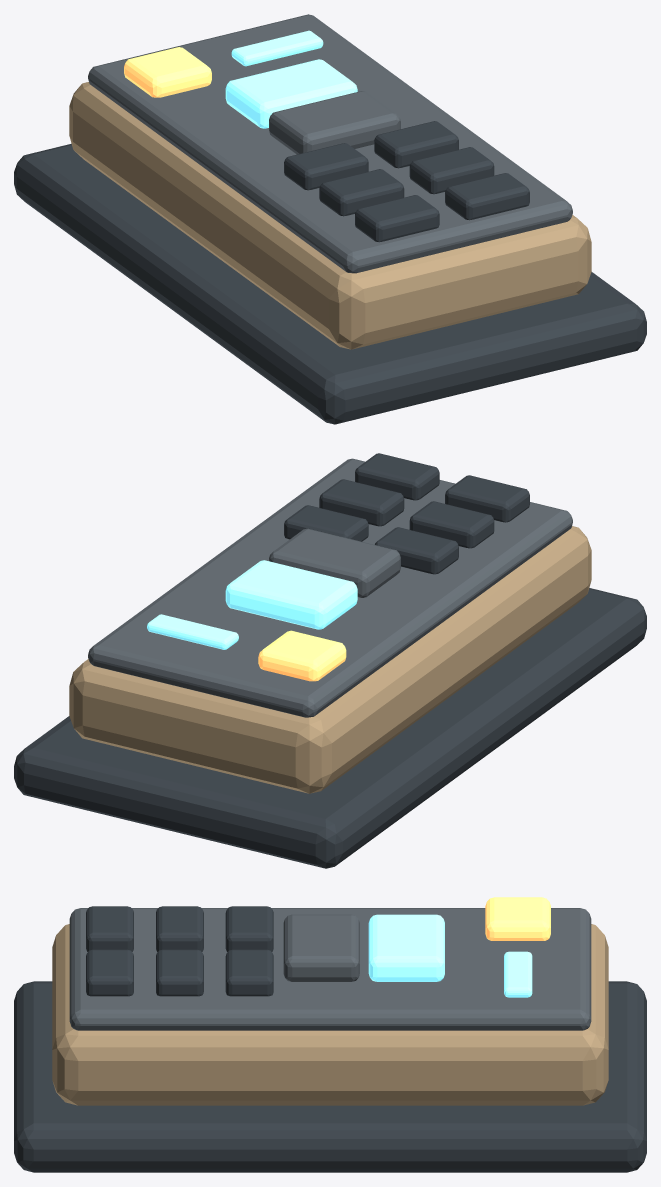
The model's file is remote.glb.
3 renders of one model, top to bottom at view 1: azimuth 30°, elevation 25°; view 2: azimuth 150°, elevation 25°; view 3: azimuth 270°, elevation 25°, orthographic.
Parts seen in each view (by area): view 1: Floor_dock, Remote_body, Graphite_face, Channel_down, Channel_up, Power, Key_2_0, Key_2_1, Key_1_0, Key_1_1, Key_0_0, Key_0_1 (+1 smaller); view 2: Floor_dock, Remote_body, Graphite_face, Channel_up, Channel_down, Power, Key_1_0, Key_1_1, Key_2_1, Key_2_0, Key_0_0, Key_0_1 (+1 smaller); view 3: Floor_dock, Remote_body, Graphite_face, Channel_up, Channel_down, Power, Key_0_1, Key_1_1, Key_2_1, Key_0_0, Key_2_0, Key_1_0 (+1 smaller).
Boxes of the visible parts, bbox=[...] form: Floor_dock: bbox=[14, 143, 646, 424]; Remote_body: bbox=[69, 82, 591, 349]; Graphite_face: bbox=[88, 14, 572, 273]; Channel_down: bbox=[269, 91, 400, 154]; Channel_up: bbox=[225, 59, 357, 128]; Power: bbox=[124, 47, 211, 97]; Key_2_0: bbox=[355, 195, 439, 242]; Key_2_1: bbox=[445, 173, 529, 220]; Key_1_0: bbox=[319, 169, 404, 216]; Key_1_1: bbox=[409, 147, 494, 194]; Key_0_0: bbox=[284, 143, 368, 190]; Key_0_1: bbox=[374, 121, 458, 168]; Floor_dock: bbox=[14, 588, 646, 868]; Remote_body: bbox=[69, 526, 591, 793]; Graphite_face: bbox=[88, 458, 572, 717]; Channel_up: bbox=[225, 560, 357, 629]; Channel_down: bbox=[269, 528, 400, 597]; Power: bbox=[258, 630, 346, 681]; Key_1_0: bbox=[409, 501, 494, 548]; Key_1_1: bbox=[319, 479, 404, 526]; Key_2_1: bbox=[355, 453, 439, 500]; Key_2_0: bbox=[445, 475, 529, 522]; Key_0_0: bbox=[375, 527, 458, 574]; Key_0_1: bbox=[284, 505, 368, 541]; Floor_dock: bbox=[14, 981, 646, 1172]; Remote_body: bbox=[52, 924, 608, 1105]; Graphite_face: bbox=[69, 908, 591, 1030]; Channel_up: bbox=[368, 914, 444, 981]; Channel_down: bbox=[283, 914, 359, 981]; Power: bbox=[485, 897, 550, 940]; Key_0_1: bbox=[225, 949, 273, 996]; Key_1_1: bbox=[156, 949, 203, 996]; Key_2_1: bbox=[86, 949, 133, 996]; Key_0_0: bbox=[225, 906, 273, 951]; Key_2_0: bbox=[86, 906, 133, 951]; Key_1_0: bbox=[156, 906, 203, 951].
Size of the model in its own units: 0.17 by 0.0835 by 0.29.
